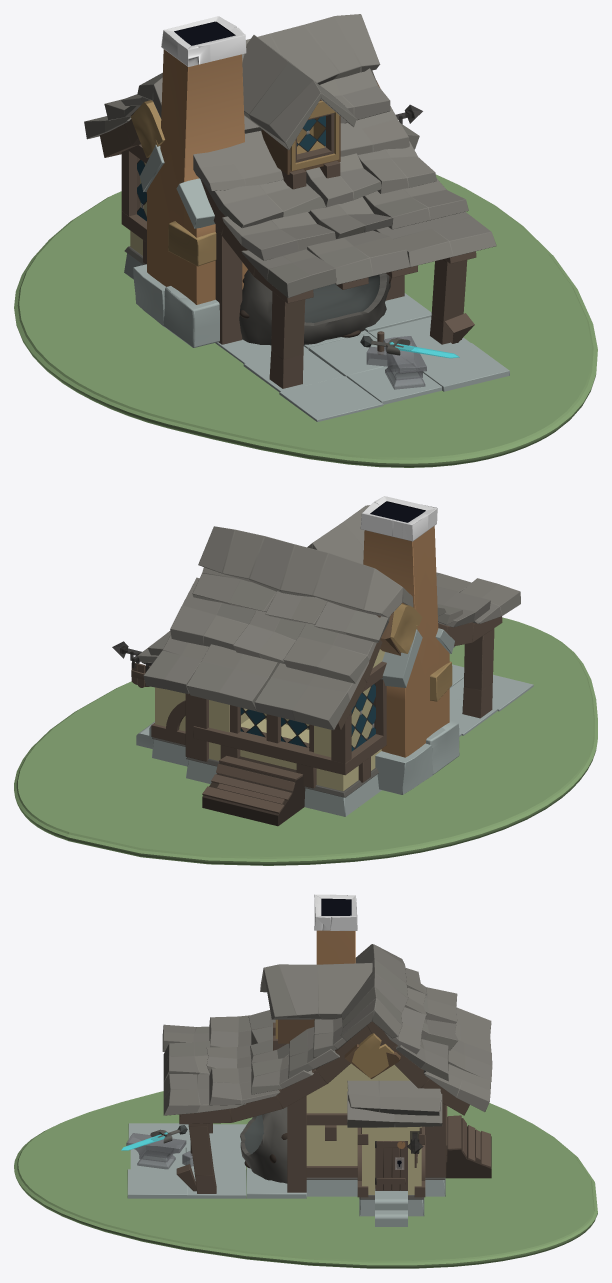
Rendered from Кузница.fbx.
The picture shows the model from 3 angles, top to bottom: view 1: azimuth 30°, elevation 25°; view 2: azimuth 150°, elevation 25°; view 3: azimuth 270°, elevation 25°; orthographic projection. The views are drawn at different scales.
Parts seen in each view (by area): view 1: земля, Cube_2_7, Cube_1, Boole_1, Cube_7_3, Cube_5, Cube_8, Cube_7, Cube_9, Cube_3_3, Boole_1_3, Cube_11 (+31 smaller); view 2: земля, Cube_7_3, Cube_2_7, Cube_9_3, Cube_5_5, Cube_2_4, Cube_4_4, Cube_2_24, Сам_дом_основа, бревна_16_2, Boole_1_3, Cube_3_4 (+31 smaller); view 3: земля, Cube_1, Cube_7_3, Сам_дом_основа, Cube_1_6, Boole_1, бревна_2_2, бревна_3, Cube_5, крыльцо, бревна_11, Cube_2_24 (+36 smaller).
Part boxes in pixels (x1,y1,x2,y2): земля: (14,174,597,467); Cube_2_7: (147,49,247,304); Cube_1: (242,35,356,150); Boole_1: (239,269,390,345); Cube_7_3: (137,14,380,118); Cube_5: (373,211,496,267); Cube_8: (204,180,325,228); Cube_7: (193,131,283,191); Cube_9: (307,230,409,284); Cube_3_3: (222,211,335,260); Boole_1_3: (161,16,246,66); Cube_11: (363,178,468,229); земля: (14,617,597,865); Cube_7_3: (198,526,413,617); Cube_2_7: (363,526,449,757); Cube_9_3: (254,661,369,730); Cube_5_5: (186,644,279,711); Cube_2_4: (283,623,376,683); Cube_4_4: (170,577,256,650); Cube_2_24: (152,739,381,816); Сам_дом_основа: (209,649,384,791); бревна_16_2: (193,726,338,773); Boole_1_3: (360,496,437,541); Cube_3_4: (233,610,305,663); земля: (14,1091,597,1268); Cube_1: (260,963,372,1019); Cube_7_3: (340,944,408,1041); Сам_дом_основа: (306,1063,409,1165); Cube_1_6: (347,1080,441,1115); Boole_1: (240,1107,287,1183); бревна_2_2: (179,1068,326,1124); бревна_3: (316,1021,469,1115); Cube_5: (163,1074,245,1115); крыльцо: (362,1126,421,1194); бревна_11: (287,1096,306,1192); Cube_2_24: (306,1178,445,1216).
Bounding box in the file's own units: 1522 × 862 × 1948.
